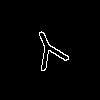Y: (25, 25, 75, 81)
